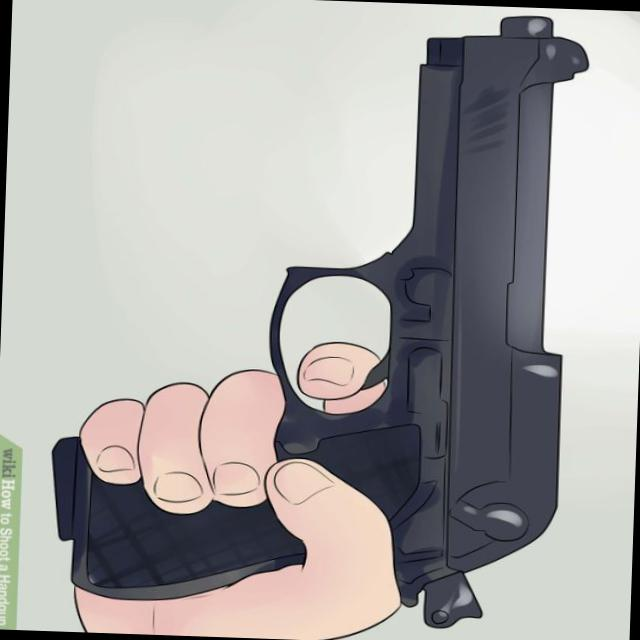handgun: (47, 0, 594, 634)
